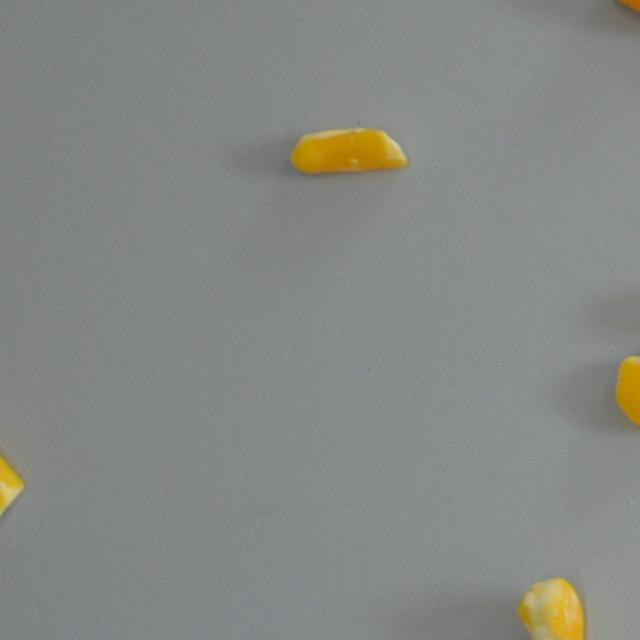dañado: (612, 336, 640, 434), (602, 0, 640, 42)
punto_negro: (286, 126, 412, 172), (509, 572, 594, 640)
